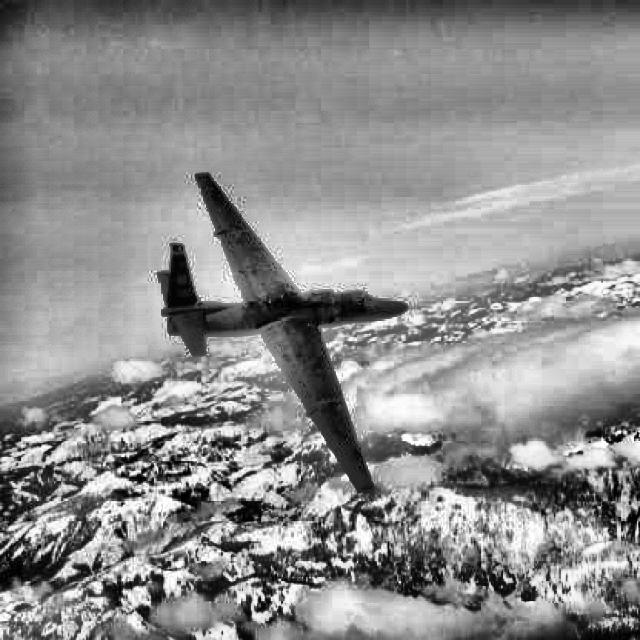U2: (157, 172, 409, 494)
